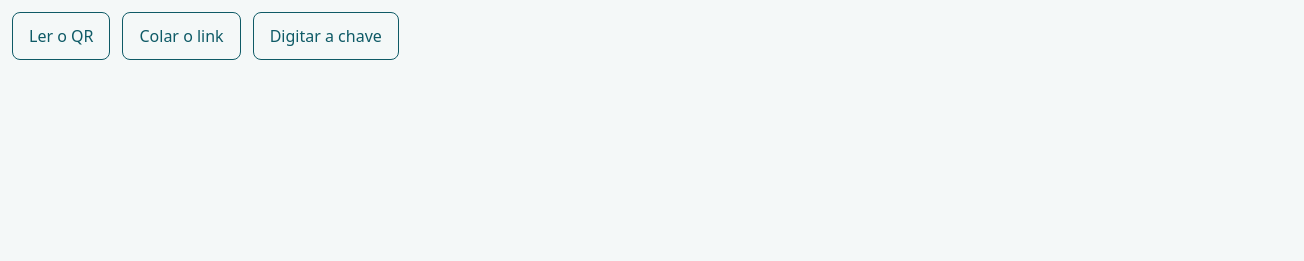
Test case: ReceiptKeyStep broken reader › brokenReaderFallsBackToPaste
Step 1. Click the button "Ler o QR" → (61, 36), box left=12, top=12, right=110, bottom=60
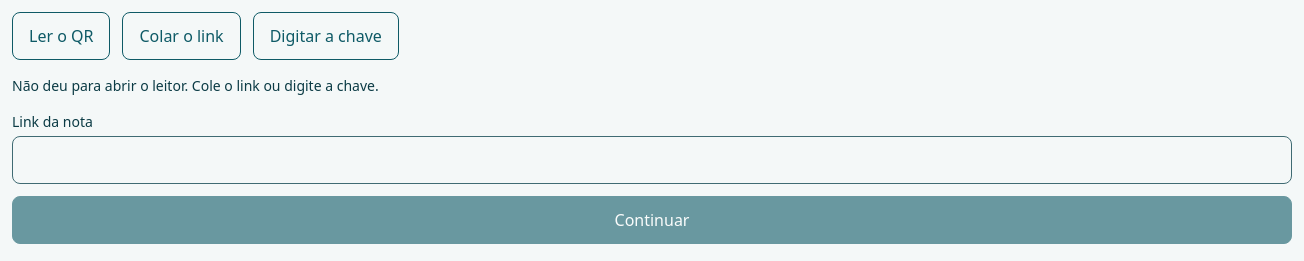
Expected: the button "Digitar a chave" is shown, left=253, top=12, right=399, bottom=60
Now the text "Não deu para abrir o leitor. Cole o link ou digite a chave." is shown, box left=12, top=76, right=379, bottom=95
Now the field labelled "Link da nota" is shown, box left=12, top=136, right=1292, bottom=184
